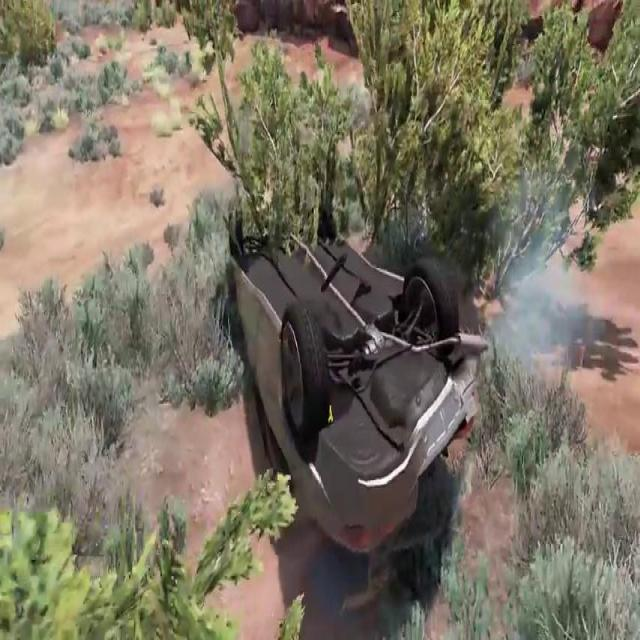accident: (224, 200, 492, 560)
